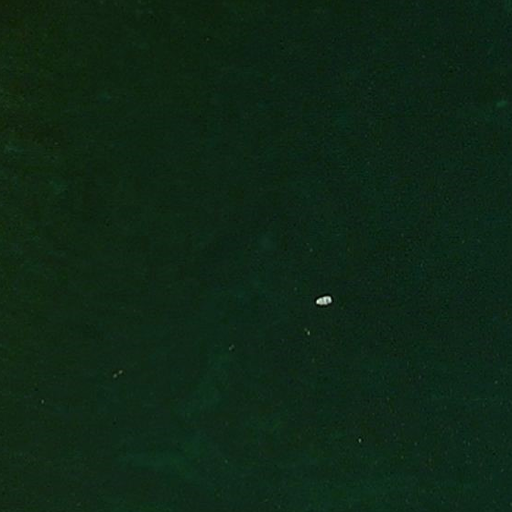ship: (311, 292, 335, 308)
